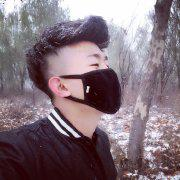OK: (61, 48, 122, 116)
